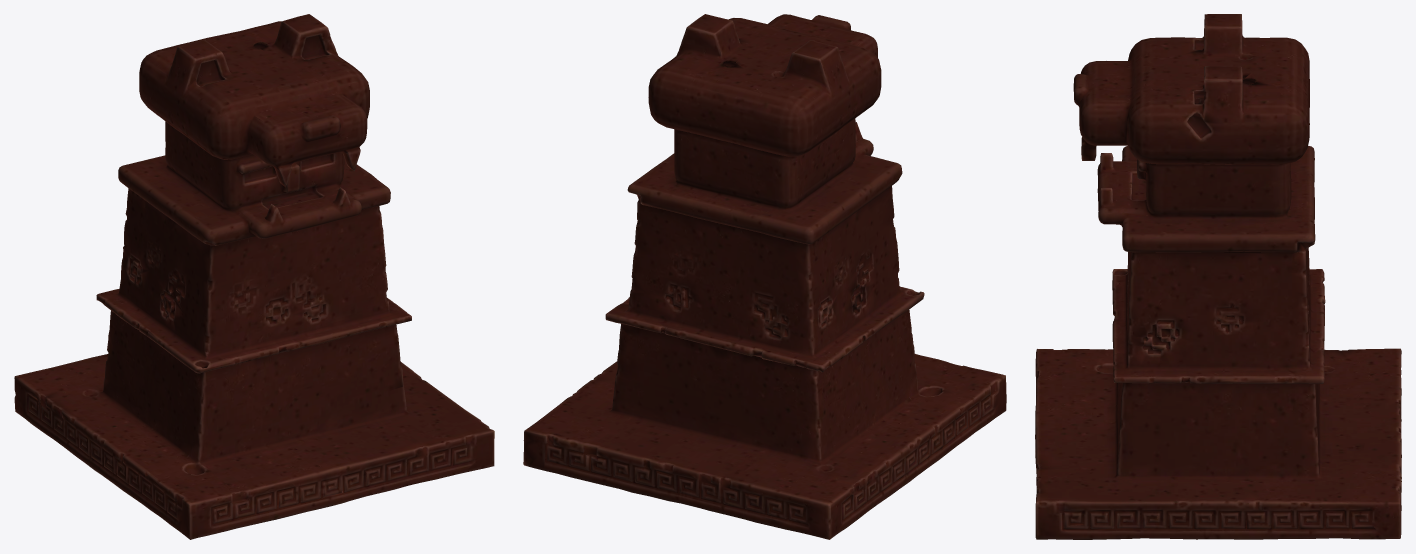
File: knight-tezontle.glb
3 views of the same model, side by side, from view 1: azimuth 30°, elevation 25°; view 2: azimuth 150°, elevation 25°; view 3: azimuth 270°, elevation 25° (orthographic). The views are drawn at different scales.
Parts seen in each view (by area): view 1: knight; view 2: knight; view 3: knight.
Boxes of the visible parts, <box> form: knight: <box>14,14,494,539</box>; knight: <box>523,14,1006,539</box>; knight: <box>1035,14,1401,539</box>.
Size of the model in its own units: 0.7629 by 0.9575 by 0.7631.
Materials: 1 (1 with a texture image).
